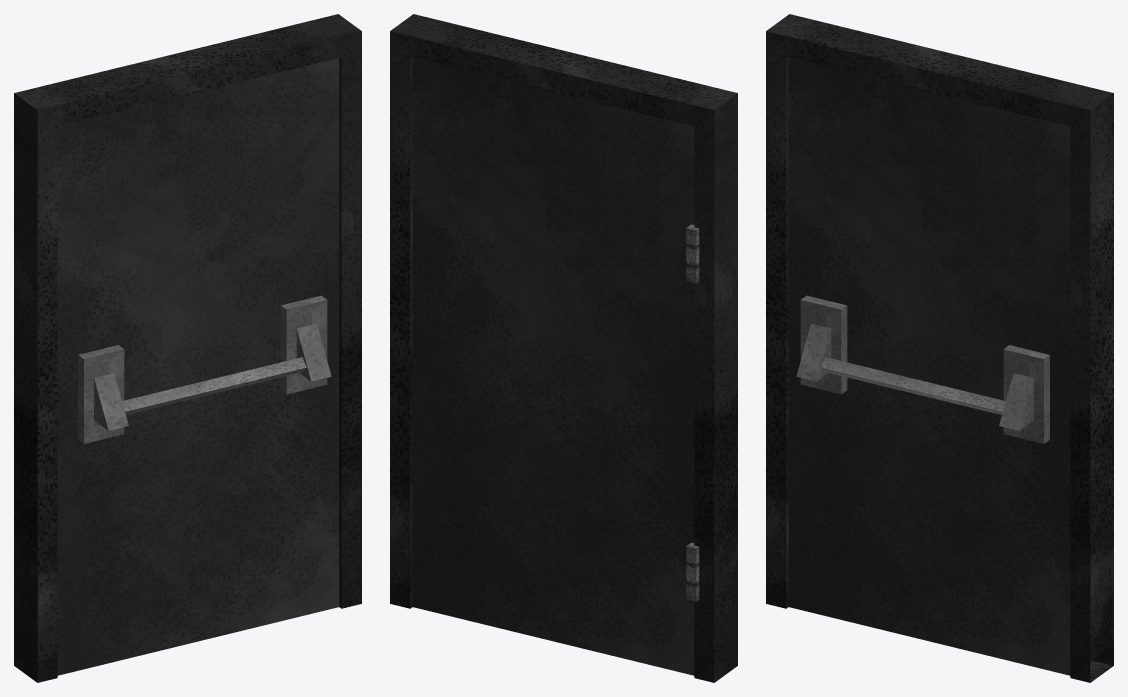
File: exit_door.glb
3 renders of one model, left to right at view 1: azimuth 30°, elevation 25°; view 2: azimuth 150°, elevation 25°; view 3: azimuth 330°, elevation 25°, orthographic.
Parts seen in each view (by area): view 1: ExitDoor-col, Handle; view 2: ExitDoor-col; view 3: ExitDoor-col, Handle.
Part boxes in pixels (x1=…): ExitDoor-col: x1=14, y1=14, x2=361, y2=682; Handle: x1=78, y1=295, x2=331, y2=443; ExitDoor-col: x1=390, y1=14, x2=737, y2=682; ExitDoor-col: x1=766, y1=14, x2=1113, y2=682; Handle: x1=796, y1=295, x2=1049, y2=443.
Size of the model in its own units: 1.52 by 2.57 by 0.3801.
1 material, 1 textured.
